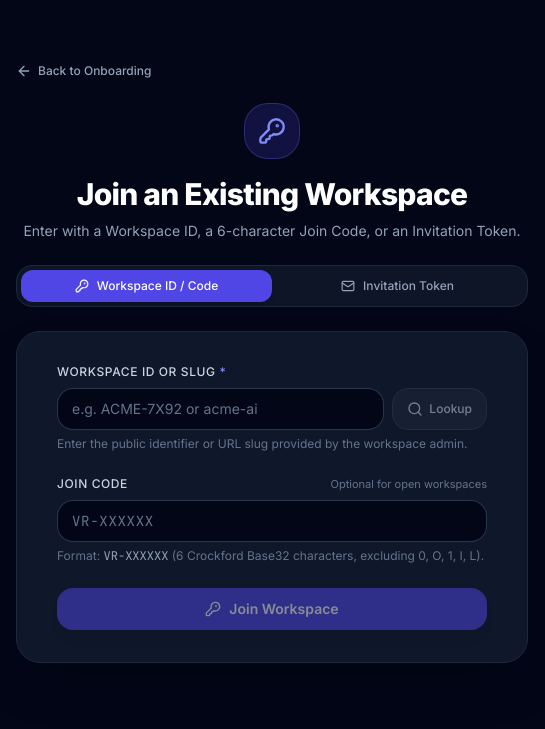
WS-A8: Create & Join Workspace Workflows › Join Workspace Workflow (/workspaces/join) › 8b. Mode 2: Client rejects malformed Join Code length and invalid Crockford characters
In the field labelled "Workspace ID or Slug *": [221, 409] box [57, 388, 384, 430], type "CORE-ENG"
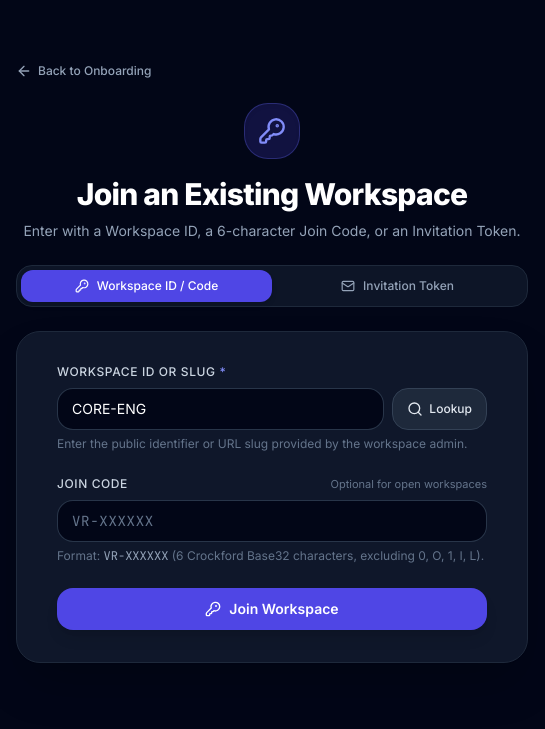
# Malformed length (too short)
In the field labelled "Join Code": [272, 521] box [57, 500, 487, 542], type "VR-12"
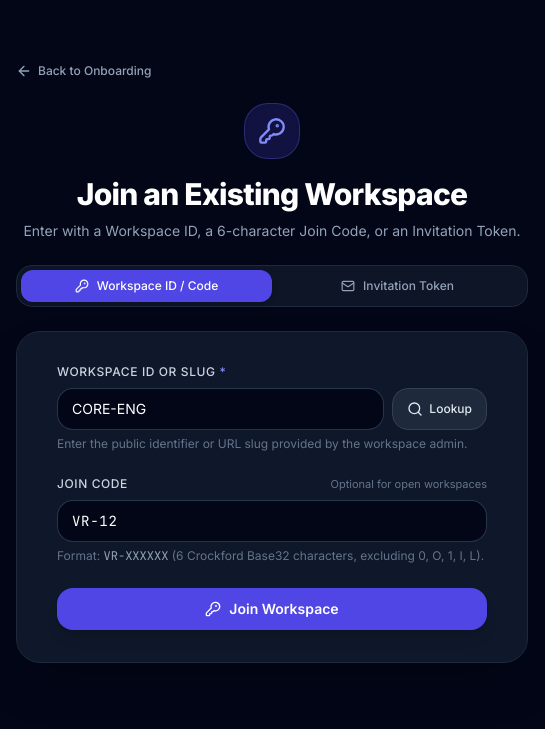
Click the button "Join Workspace": [272, 609] box [57, 588, 487, 630]
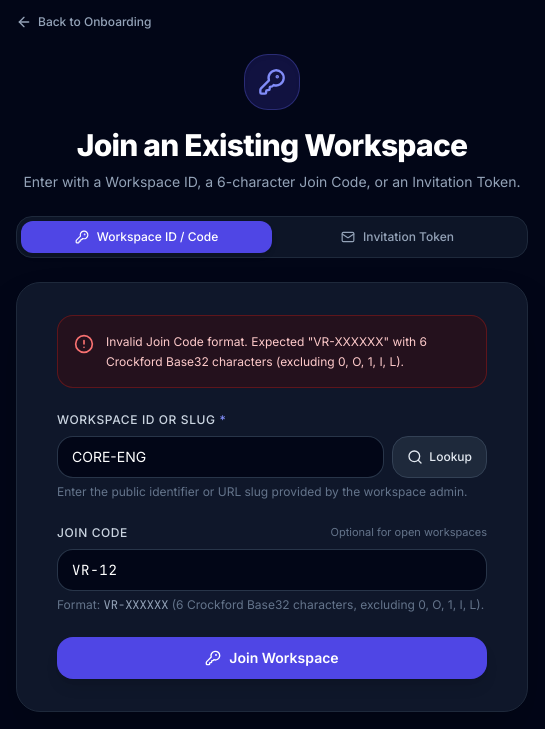
Result: the text "Invalid Join Code format" is shown at [106, 334, 427, 369]
# Invalid Crockford characters (0, O, 1, I, L)
Replace the text in the field labelled "Join Code" with "VR-000000": [272, 570] box [57, 549, 487, 591]
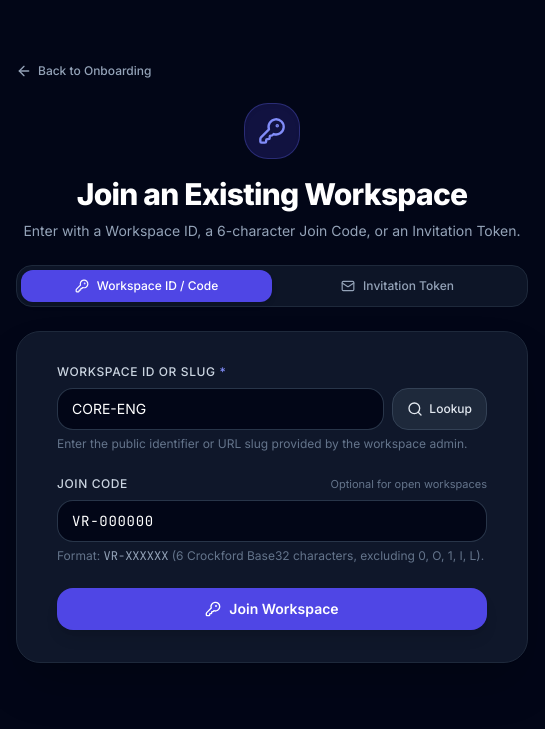
Click the button "Join Workspace": [272, 609] box [57, 588, 487, 630]
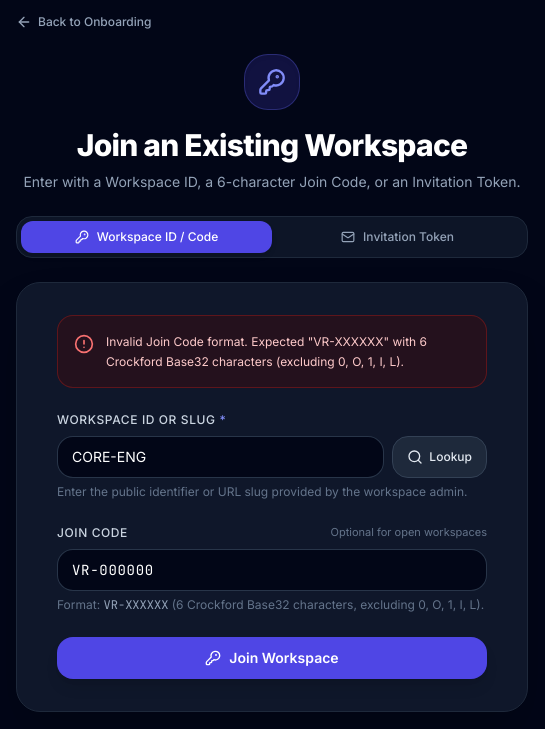
Result: the text "Invalid Join Code format" is shown at [106, 334, 427, 369]
